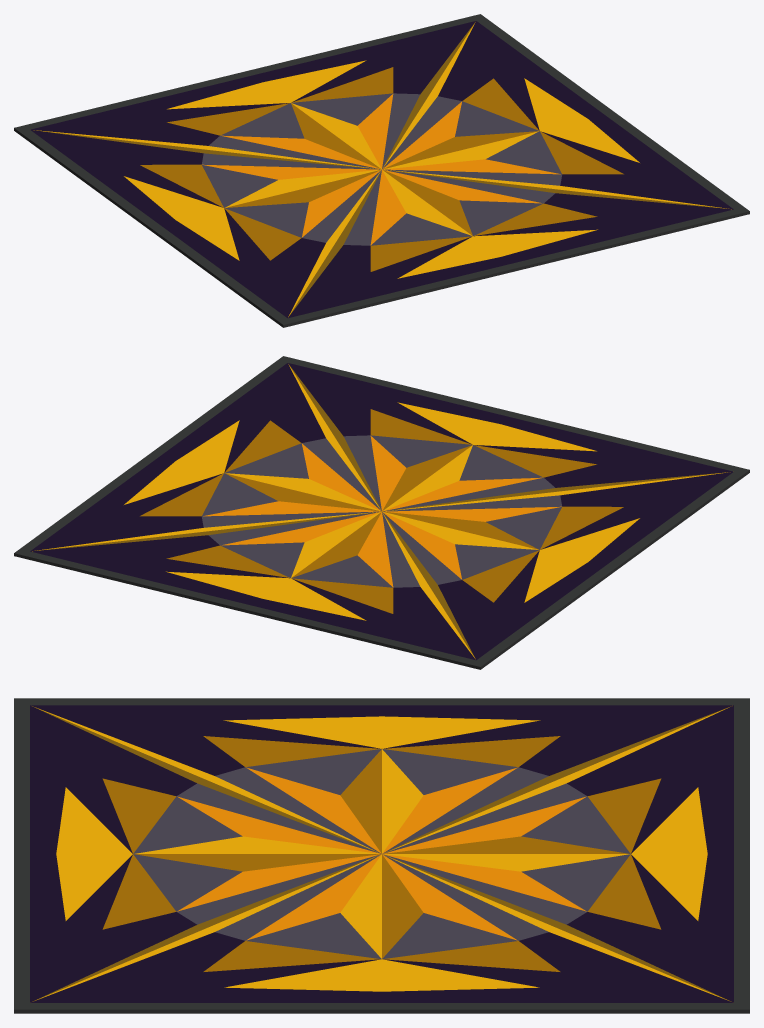
Rendered from Carpet_01.glb.
The picture shows the model from 3 angles, top to bottom: view 1: azimuth 30°, elevation 25°; view 2: azimuth 150°, elevation 25°; view 3: azimuth 270°, elevation 25°; orthographic projection. The views are drawn at different scales.
Visible parts, largest first — view 1: Carpet_01; view 2: Carpet_01; view 3: Carpet_01.
Part boxes in pixels (x1,y1,x2,y2): Carpet_01: [14, 14, 749, 327]; Carpet_01: [14, 356, 749, 669]; Carpet_01: [14, 698, 749, 1013].
Size of what is drawn, in the model's own units: 4 by 0.0241 by 4.
1 material, 1 textured.
